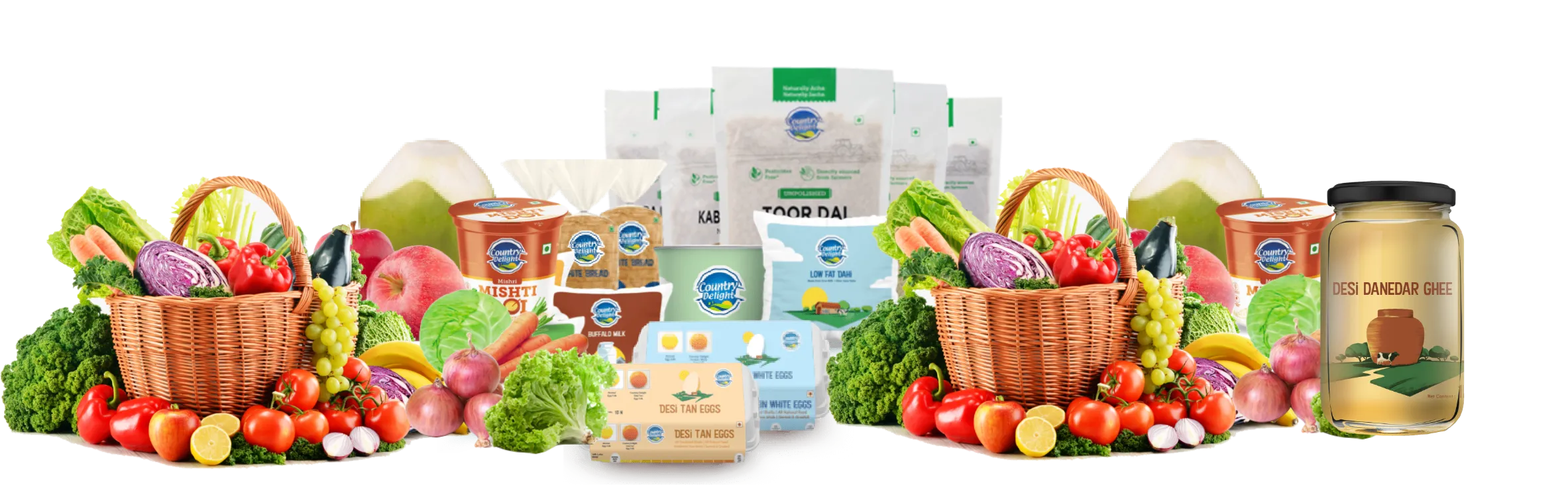Dairy Milk: (78, 24, 1490, 461)
